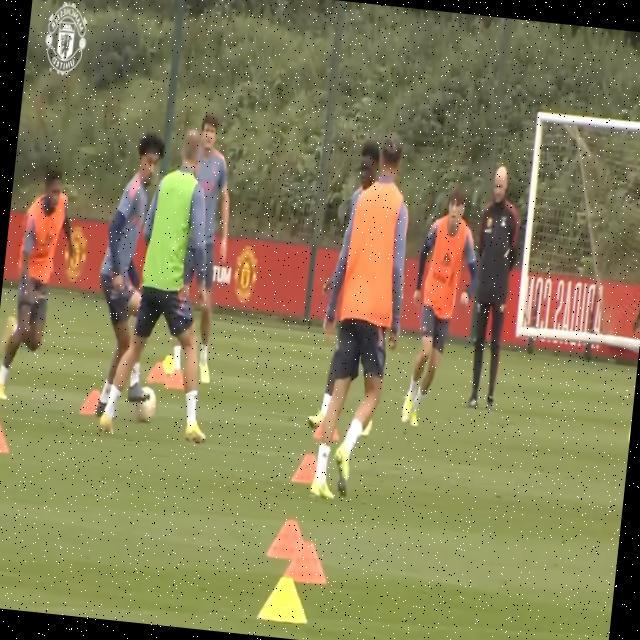Adidas: (440, 248, 454, 268)
